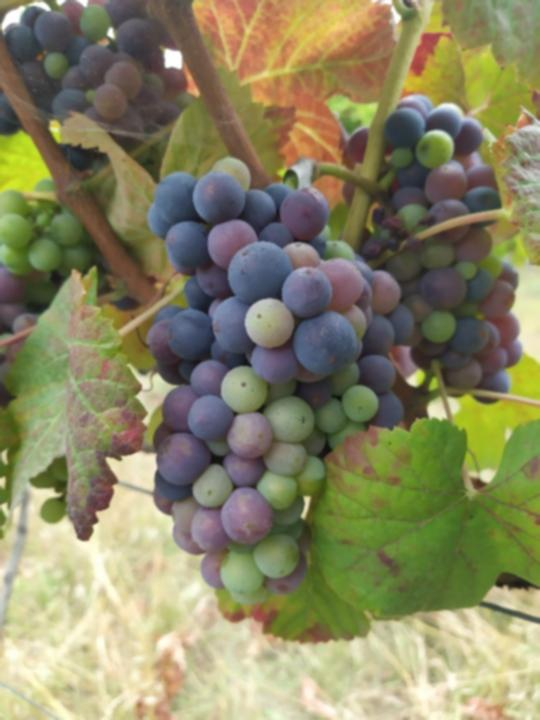grape: (144, 152, 417, 608)
